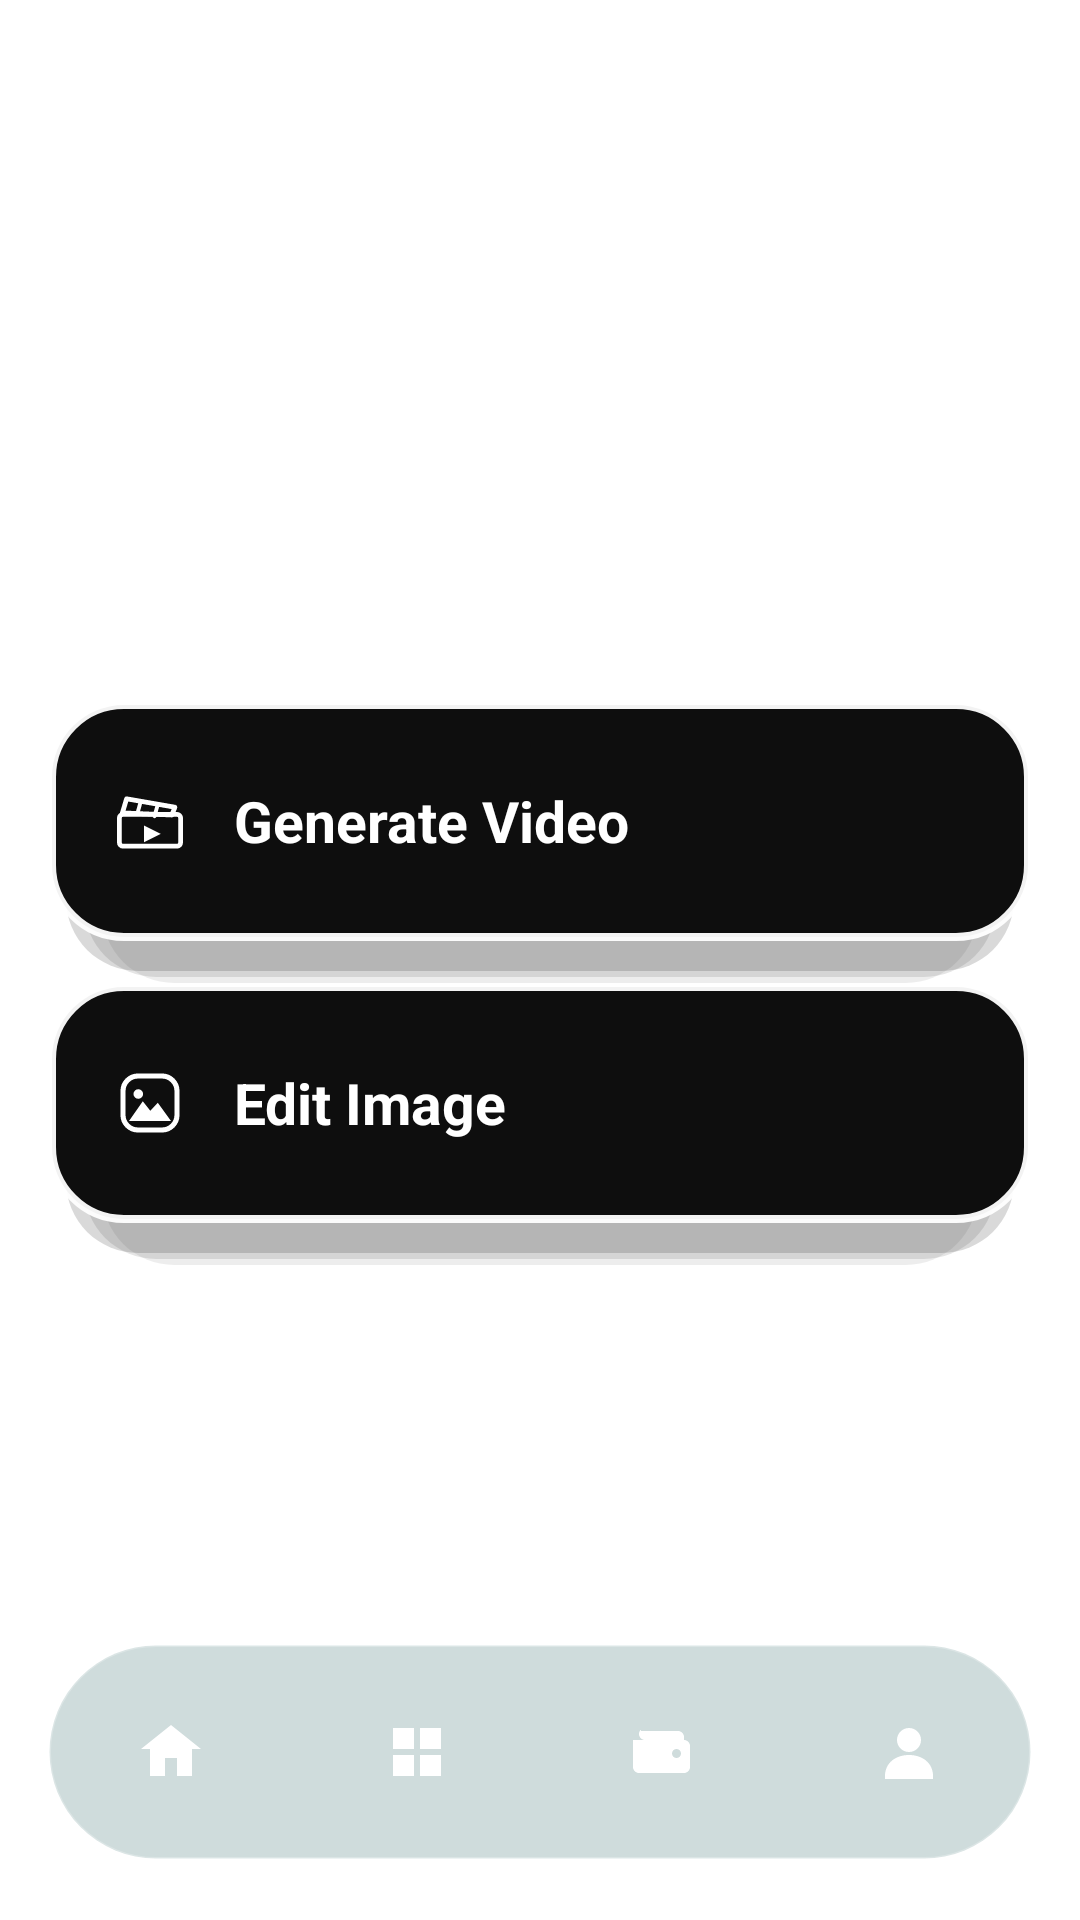

Icons on this 1080*1920 Android screen, each with the point to tap as (x,y):
grid: (417,1752)
home: (171,1750)
movie: (150,822)
person: (909,1753)
wallet: (661,1751)
